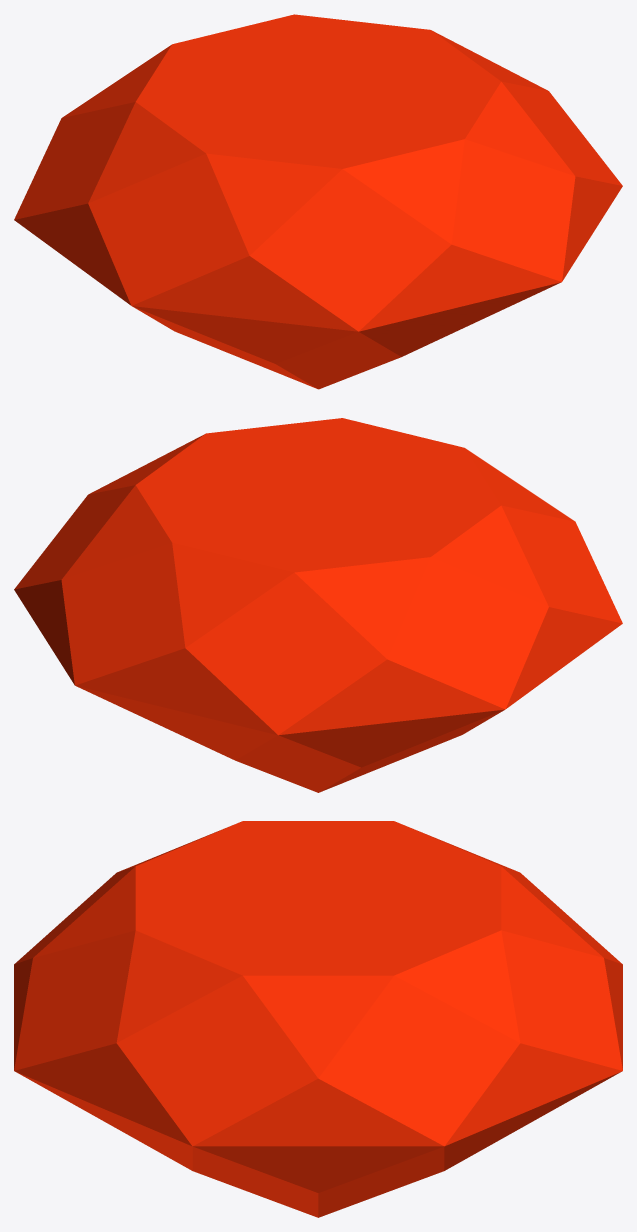
Rendered from ruby.gltf.
The picture shows the model from 3 angles, top to bottom: view 1: azimuth 30°, elevation 25°; view 2: azimuth 150°, elevation 25°; view 3: azimuth 270°, elevation 25°; orthographic projection. The views are drawn at different scales.
Visible parts, largest first — view 1: Ruby; view 2: Ruby; view 3: Ruby.
Part boxes in pixels (x1,y1,x2,y2): Ruby: [14, 14, 622, 389]; Ruby: [14, 418, 622, 792]; Ruby: [14, 821, 622, 1217].
Size of the model in its own units: 1.85 by 1.07 by 1.85.
